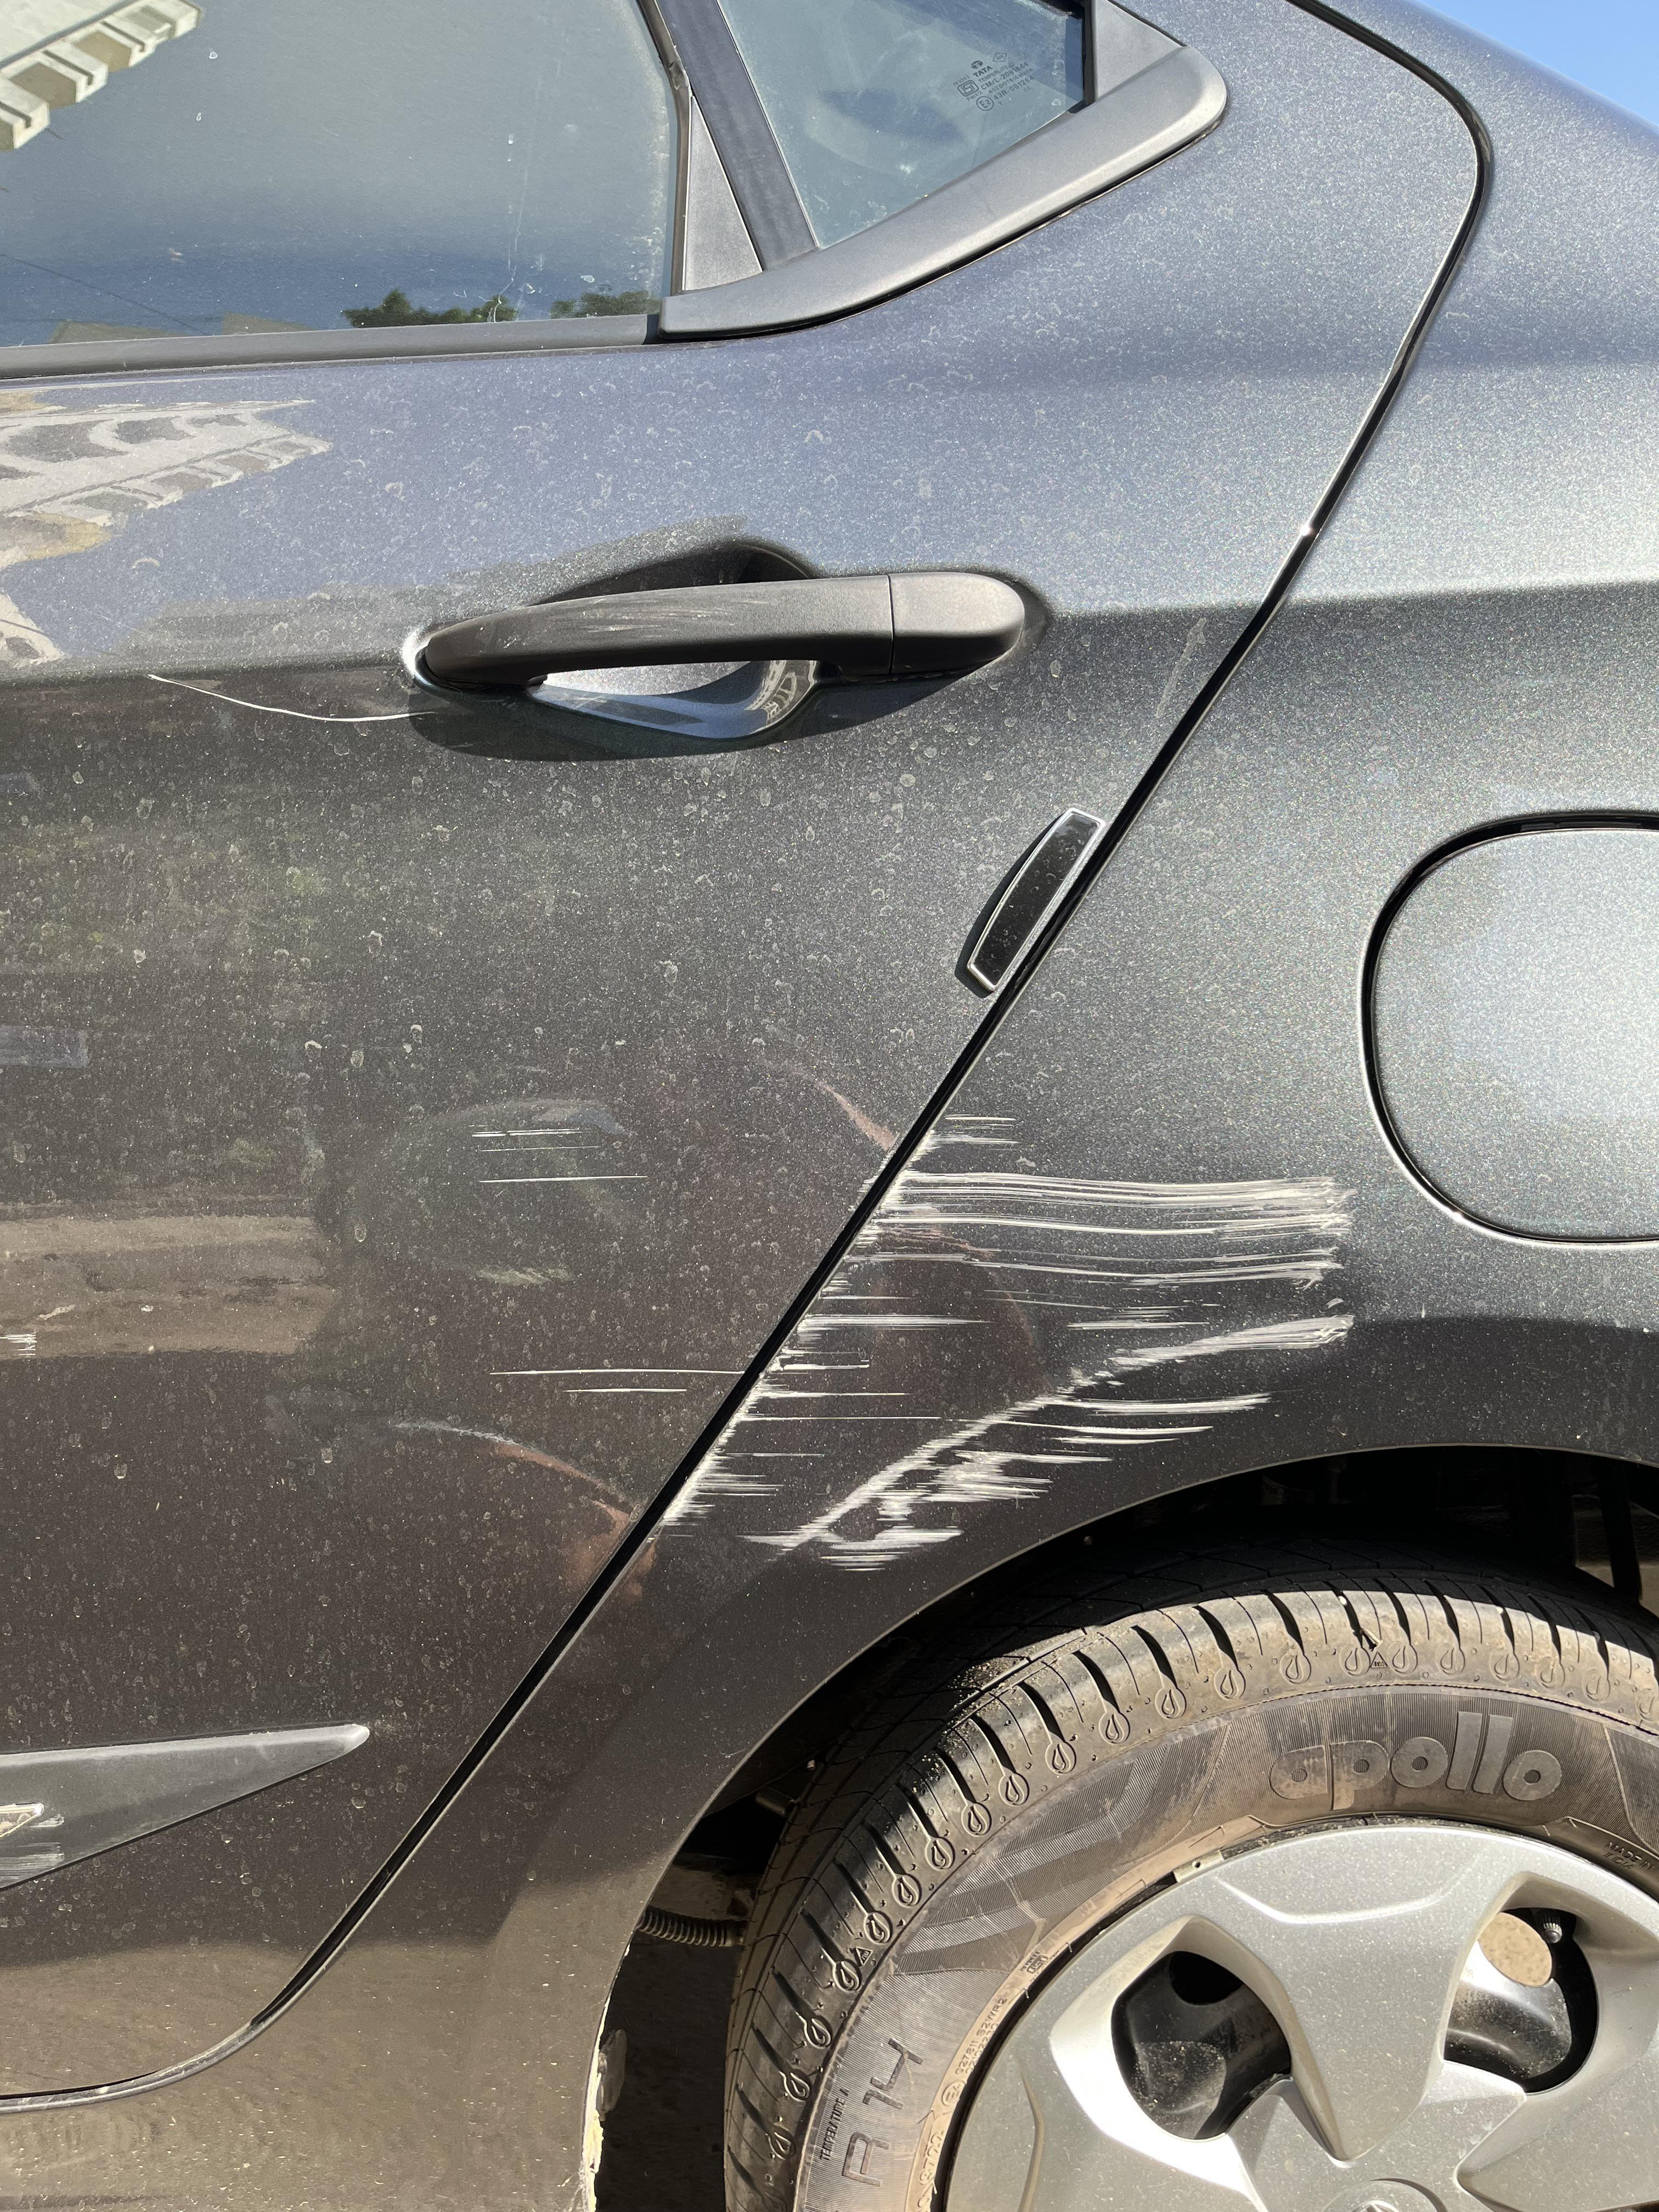scratch: (516, 1120, 1443, 1602)
